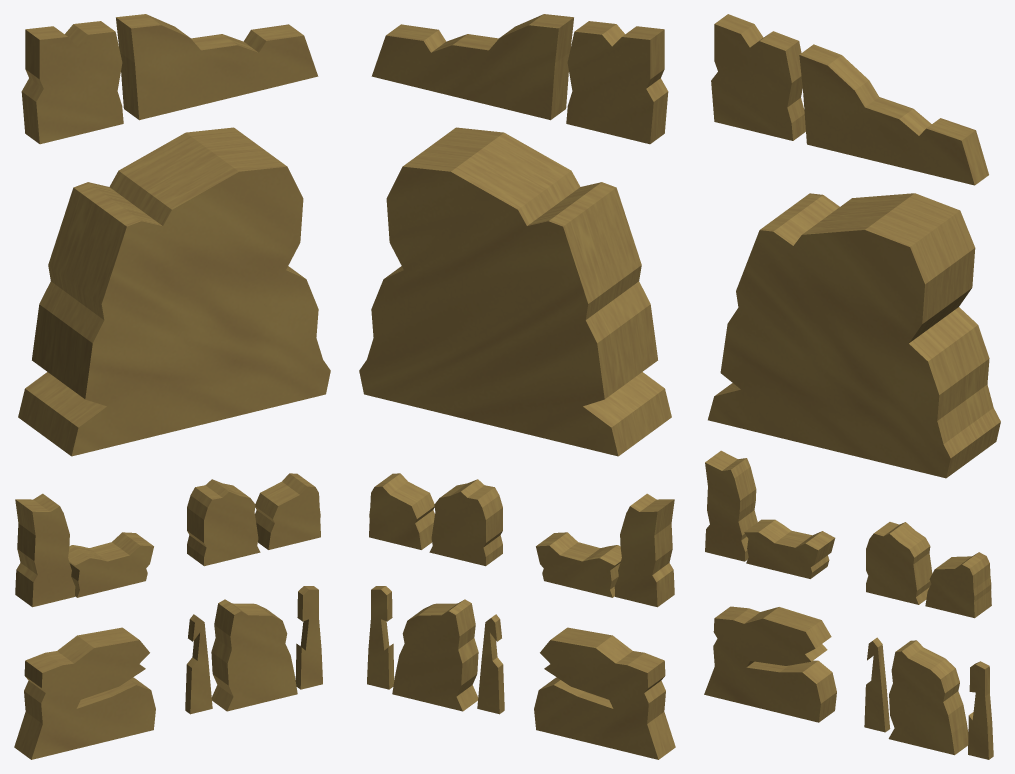
The model's file is rack_a_tablets.glb.
3 views of the same model, side by side, from view 1: azimuth 30°, elevation 25°; view 2: azimuth 150°, elevation 25°; view 3: azimuth 330°, elevation 25° (orthographic). The views are drawn at different scales.
Parts seen in each view (by area): view 1: artifact.graph.tendency.1.2; view 2: artifact.graph.tendency.1.2; view 3: artifact.graph.tendency.1.2.
Part boxes in pixels (left/top/right/bottom): artifact.graph.tendency.1.2: left=14, top=14, right=330, bottom=759; artifact.graph.tendency.1.2: left=359, top=14, right=675, bottom=759; artifact.graph.tendency.1.2: left=704, top=14, right=1000, bottom=759.
Size of the model in its own units: 4.81 by 11.09 by 1.5.
1 material, 1 textured.
